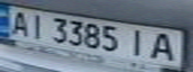3: (45, 16, 69, 45), (66, 18, 84, 48)
5: (100, 22, 124, 54)
8: (81, 20, 103, 52)
A: (145, 29, 181, 62), (3, 8, 33, 37)
I: (124, 26, 154, 57), (24, 11, 48, 39)
